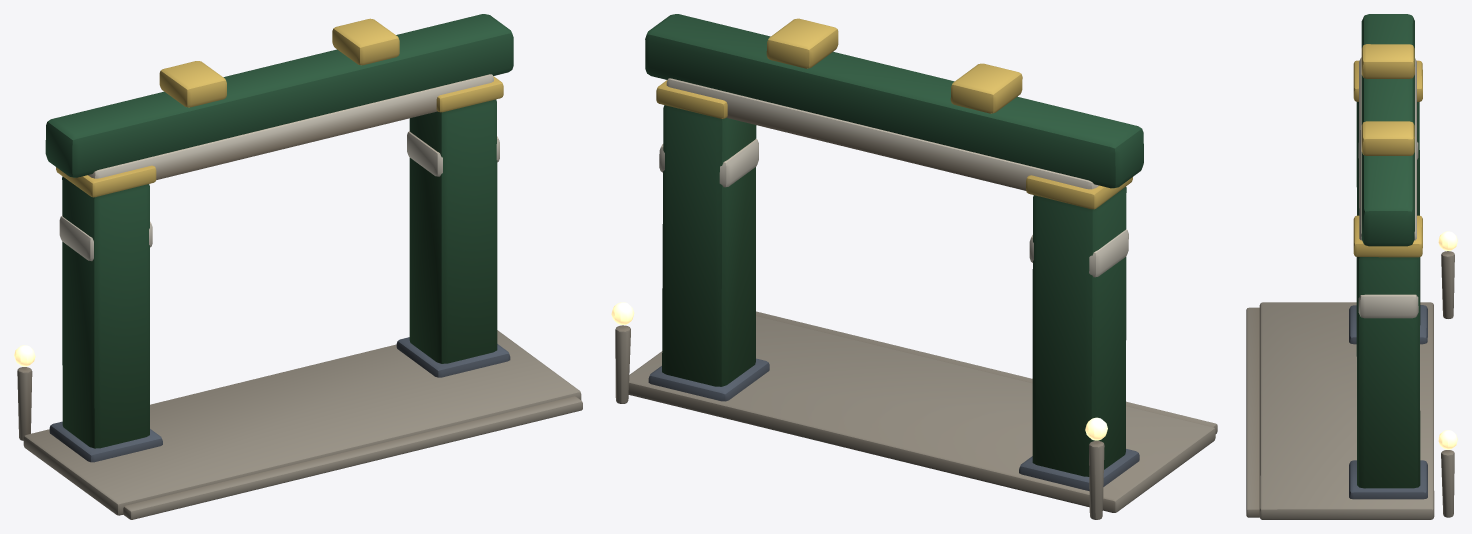
The picture shows the model from 3 angles, left to right: view 1: azimuth 30°, elevation 25°; view 2: azimuth 150°, elevation 25°; view 3: azimuth 270°, elevation 25°; orthographic projection. The views are drawn at different scales.
Parts seen in each view (by area): view 1: gate_66c4646a; view 2: gate_66c4646a; view 3: gate_66c4646a.
Part boxes in pixels (x1,y1,x2,y2): gate_66c4646a: (14, 14, 582, 519); gate_66c4646a: (611, 14, 1217, 519); gate_66c4646a: (1246, 14, 1457, 519).
Bounding box in the file's own units: 5.92 × 4.35 × 2.55.
